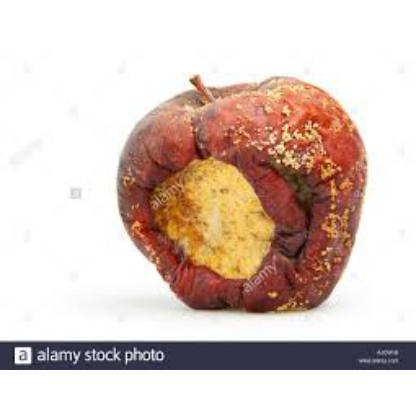apple: (126, 76, 359, 308)
